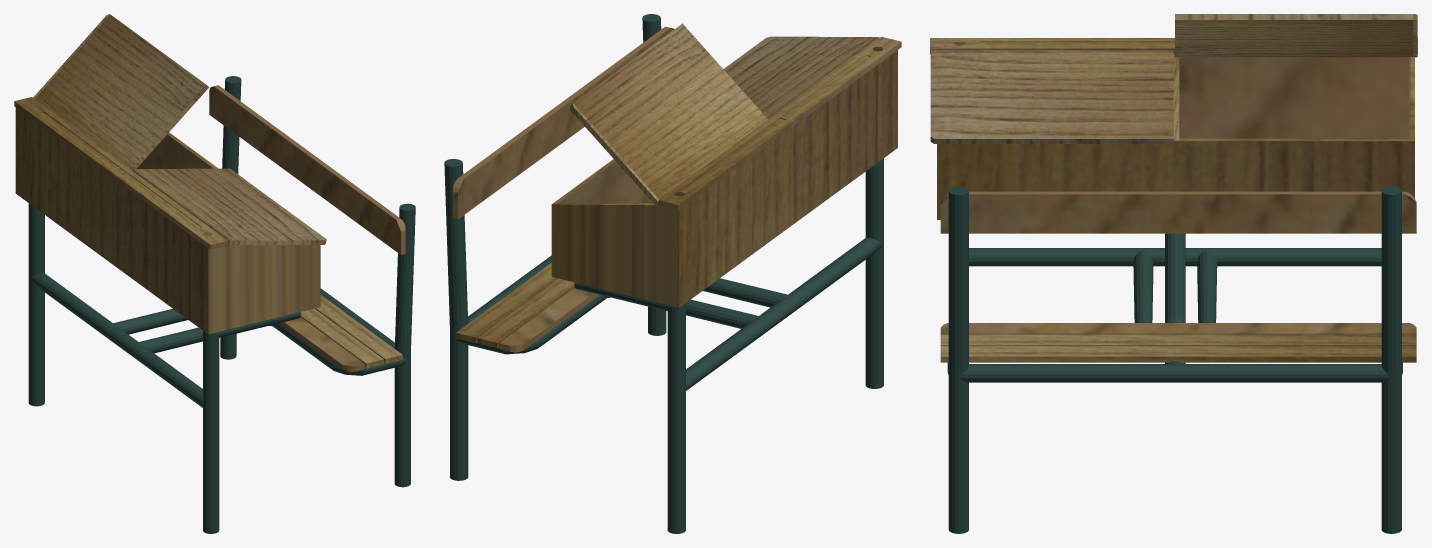
File: bureauEcolier.obj
3 renders of one model, left to right at view 1: azimuth 30°, elevation 25°; view 2: azimuth 150°, elevation 25°; view 3: azimuth 270°, elevation 25°, orthographic. The views are drawn at different scales.
Visible parts, largest first — view 1: Casier, Armature, couvercle2, couvercle1, planche_do, planche_en, planche_bi, planche_1, planche_2, casier_int; view 2: Casier, Armature, couvercle2, couvercle1, planche_do, planche_en, casier_int, planche_bi, planche_1, planche_2; view 3: Armature, Casier, couvercle1, casier_int, planche_do, couvercle2, planche_1, planche_2, planche_bi, planche_en, separation.
Boxes of the visible parts, x1,y1,x2,y2 form: Casier: [15, 107, 320, 334]; Armature: [28, 76, 415, 533]; couvercle2: [33, 14, 208, 169]; couvercle1: [132, 168, 326, 245]; planche_do: [209, 85, 405, 254]; planche_en: [14, 97, 228, 249]; planche_bi: [279, 317, 364, 372]; planche_1: [315, 295, 402, 363]; planche_2: [301, 308, 383, 368]; casier_int: [28, 104, 213, 168]; Casier: [551, 50, 897, 307]; Armature: [444, 14, 883, 533]; couvercle2: [570, 23, 767, 205]; couvercle1: [723, 36, 879, 119]; planche_do: [452, 26, 674, 219]; planche_en: [658, 36, 901, 210]; casier_int: [558, 46, 883, 203]; planche_bi: [499, 288, 599, 352]; planche_1: [456, 263, 558, 343]; planche_2: [477, 278, 574, 348]; Armature: [947, 186, 1402, 533]; Casier: [937, 41, 1414, 219]; couvercle1: [930, 50, 1173, 143]; casier_int: [954, 42, 1409, 138]; planche_do: [940, 191, 1416, 233]; couvercle2: [1175, 14, 1417, 57]; planche_1: [940, 345, 1416, 362]; planche_2: [940, 334, 1416, 345]; planche_bi: [940, 323, 1416, 334]; planche_en: [930, 38, 1417, 54]; separation: [1173, 54, 1179, 140].
Size of the model in its own units: 5 by 8.02 by 7.89.
Materials: 12 (10 with a texture image).
